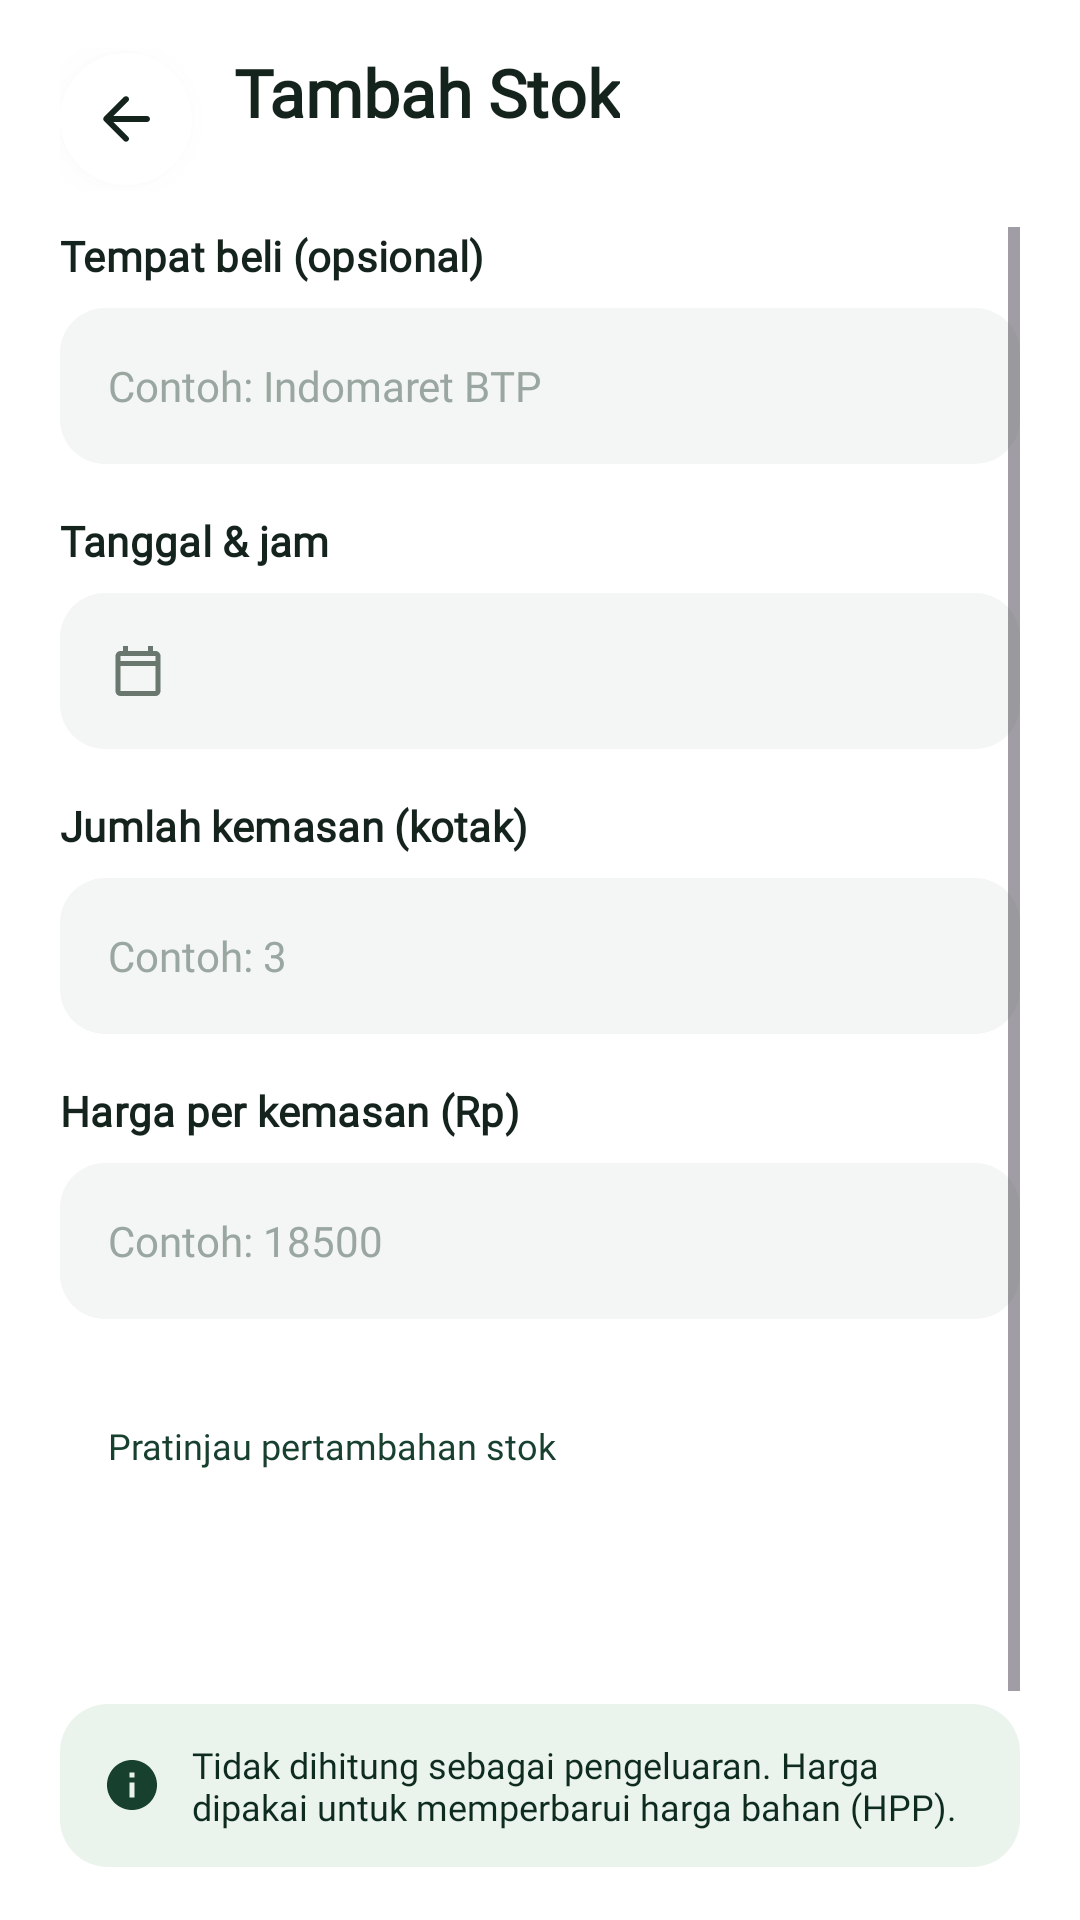

Where icons sit on this 1080w x 1920h app screen, as {"left": x1, "top": y1, "right": x2, "bottom": y2}:
calendar: {"left": 115, "top": 646, "right": 161, "bottom": 696}
info: {"left": 107, "top": 1760, "right": 157, "bottom": 1810}
